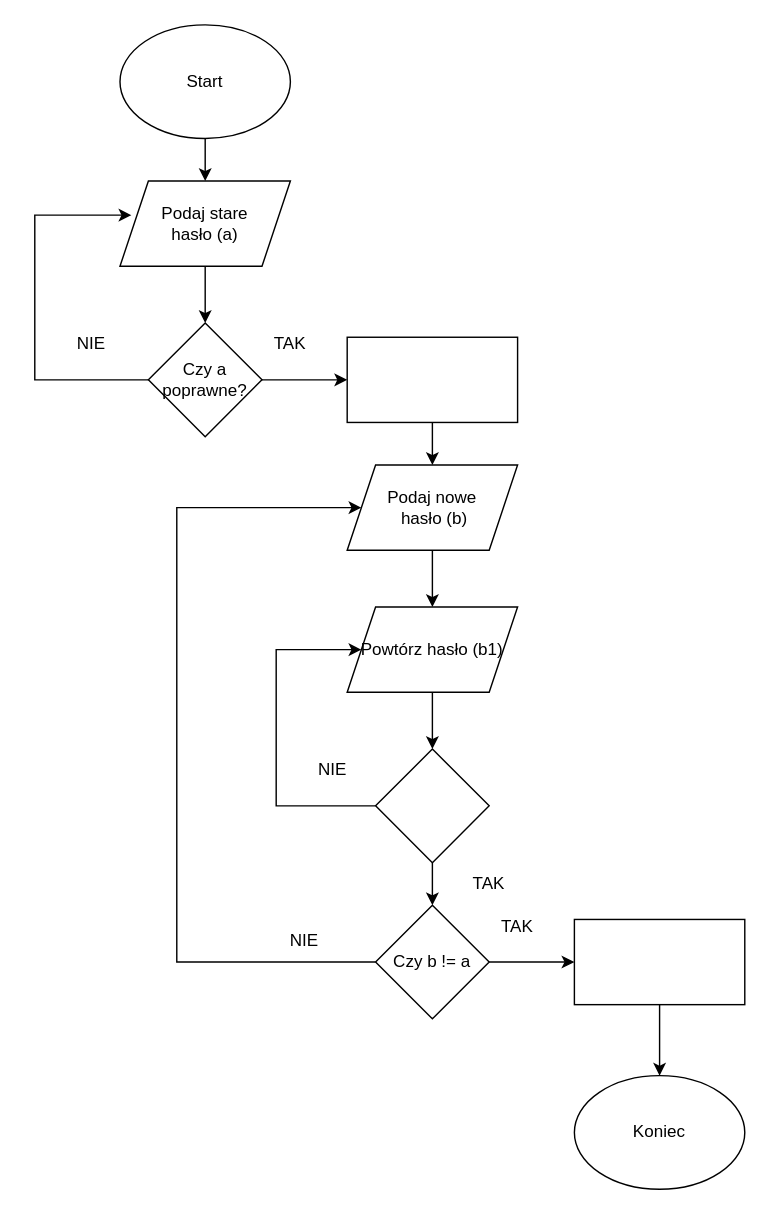
Some shapes in this 770 by 1214 pixel diagram are drawn without their labels. Each missing label, with the centre of its shape:
a poprawne: pixel 432 379
Czy b == b1: pixel 431 805
Pomyślna zmiana: pixel 659 961
